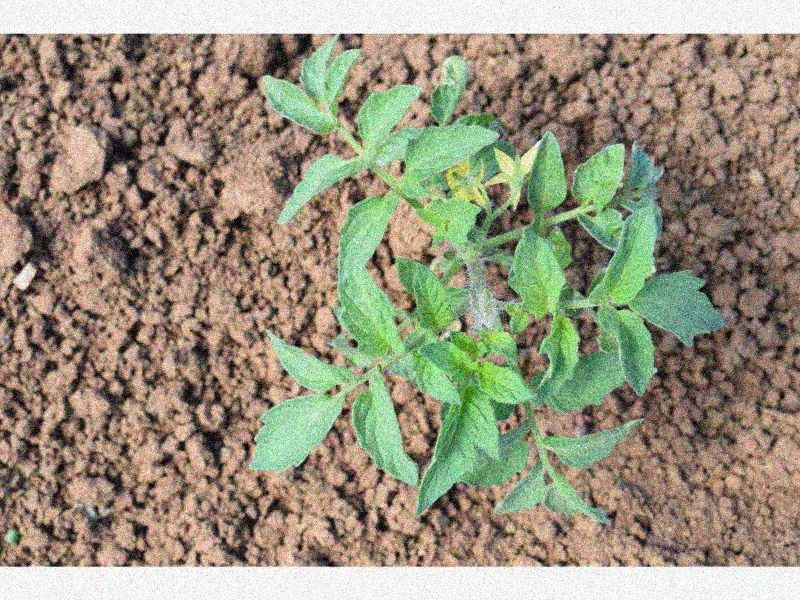tomato: (249, 34, 720, 523)
